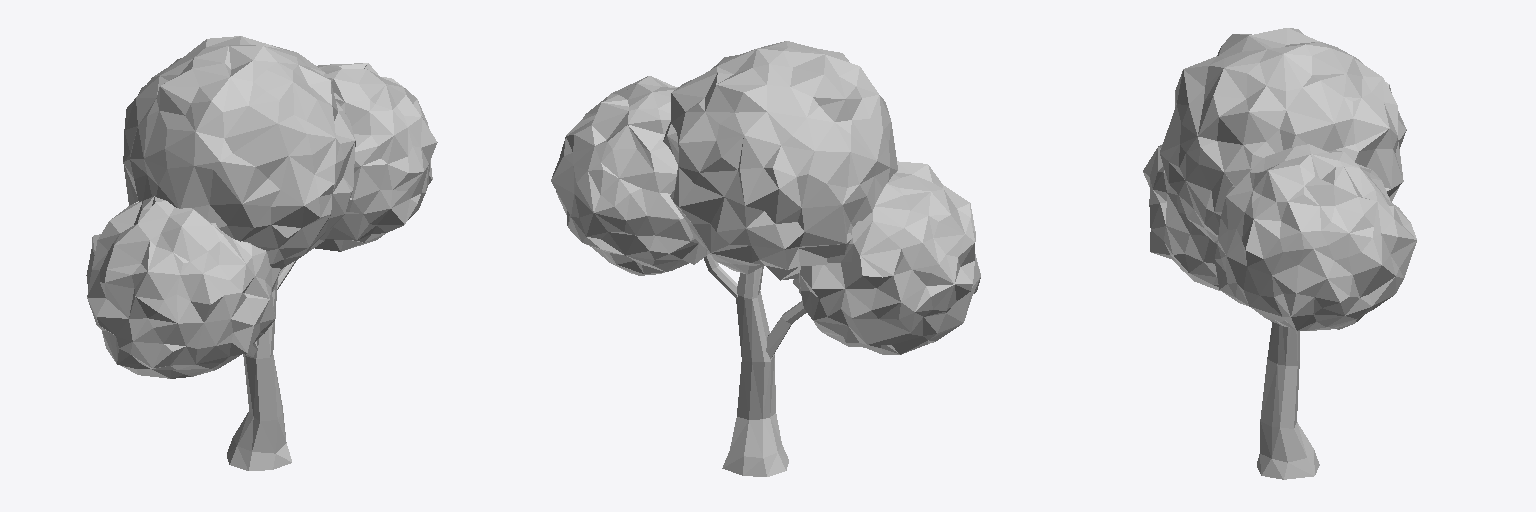
The model's file is Tree_2.obj.
3 views of the same model, side by side, from view 1: azimuth 30°, elevation 25°; view 2: azimuth 150°, elevation 25°; view 3: azimuth 270°, elevation 25° (orthographic).
Parts seen in each view (by area): view 1: Tree.2; view 2: Tree.2; view 3: Tree.2.
Boxes of the visible parts, box(x1,y1,x2,y2) form: Tree.2: box(86, 36, 437, 470); Tree.2: box(551, 41, 980, 476); Tree.2: box(1143, 28, 1416, 479).
Size of the model in its own units: 6.01 by 6.51 by 3.92.